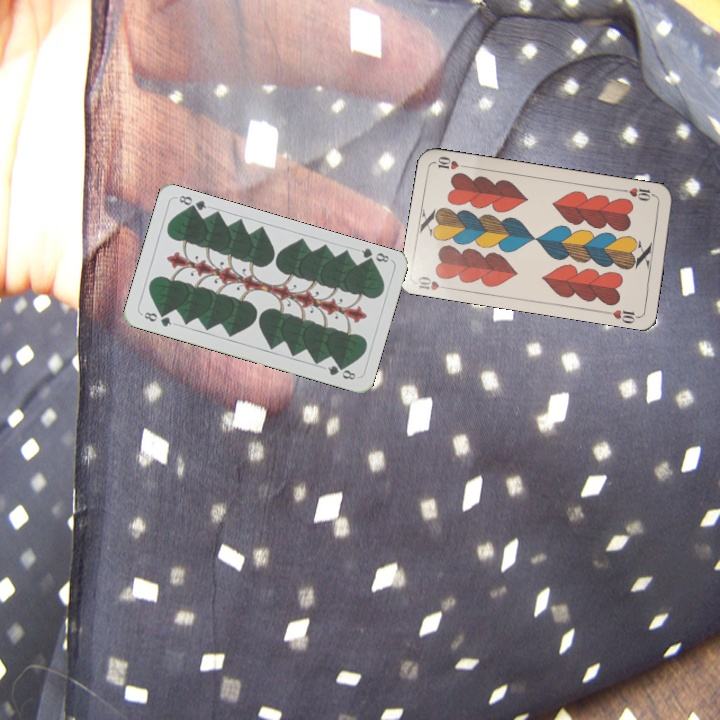G8: (357, 244, 392, 268), (140, 308, 174, 329)
H10: (618, 183, 659, 204), (413, 272, 454, 293)
